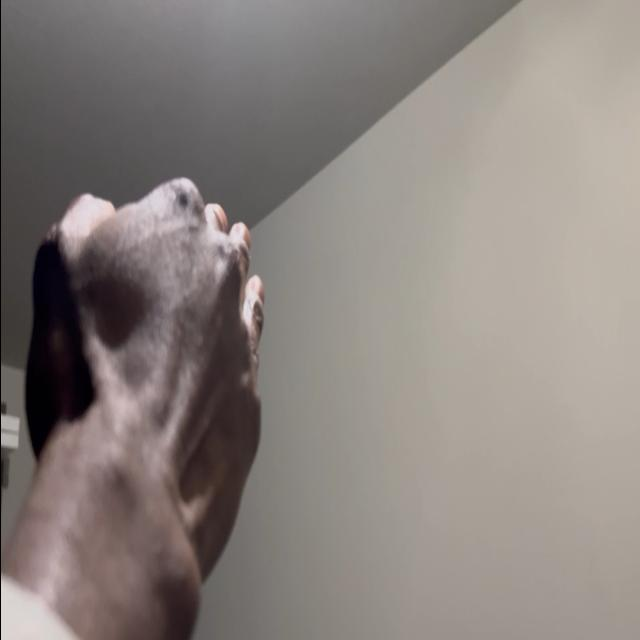Paper: (22, 176, 266, 604)
